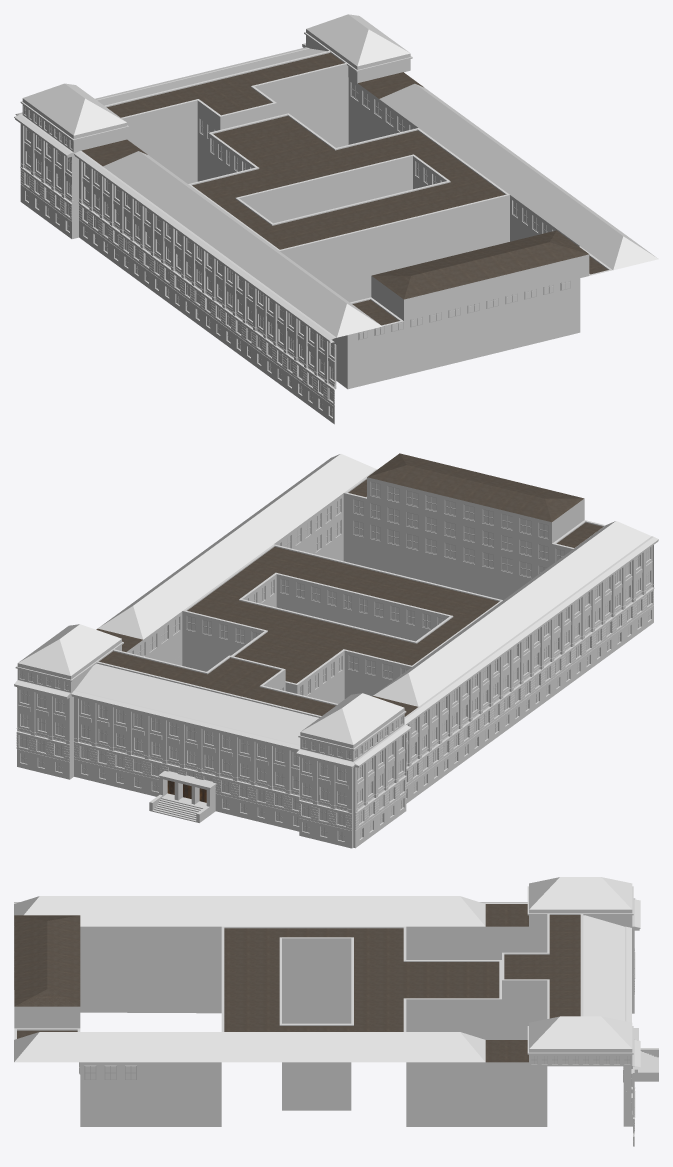
Rendered from VSCHT.fbx.
3 renders of one model, top to bottom at view 1: azimuth 30°, elevation 25°; view 2: azimuth 150°, elevation 25°; view 3: azimuth 270°, elevation 25°, orthographic.
Parts seen in each view (by area): view 1: VSCHT_Zadni_Detaily, VSCHT_Stena.004, VSCHT_Stena.003, VSCHT_Stena, VSCHT_Roof_Cube, VSCHT_Roof_Cube.001, VSCHT_Stena.002; view 2: VSCHT_Zadni_Detaily, VSCHT_Stena.003, VSCHT_Stena.004, VSCHT_Stena.002, VSCHT_Stena.001, VSCHT_Roof_Cube, VSCHT_Stena, VSCHT_Roof_Cube.001, VSCHT_Vstup; view 3: VSCHT_Zadni_Detaily, VSCHT_Stena.004, VSCHT_Roof_Cube.001, VSCHT_Roof_Cube, VSCHT_Stena.001, VSCHT_Vstup, VSCHT_Stena.002, VSCHT_Bok_Big.
Part boxes in pixels (x1,y1,x2,y2): VSCHT_Zadni_Detaily: (97, 48, 612, 389); VSCHT_Stena.004: (81, 72, 658, 337); VSCHT_Stena.003: (74, 151, 336, 424); VSCHT_Stena: (15, 115, 73, 238); VSCHT_Roof_Cube: (20, 83, 129, 152); VSCHT_Roof_Cube.001: (304, 14, 412, 83); VSCHT_Stena.002: (95, 47, 309, 100); VSCHT_Zadni_Detaily: (75, 453, 605, 744); VSCHT_Stena.003: (404, 536, 658, 803); VSCHT_Stena.004: (96, 454, 651, 716); VSCHT_Stena.002: (71, 690, 300, 831); VSCHT_Stena.001: (14, 680, 352, 848); VSCHT_Roof_Cube: (298, 693, 406, 761); VSCHT_Stena: (354, 724, 411, 847); VSCHT_Roof_Cube.001: (15, 624, 123, 692); VSCHT_Vstup: (149, 771, 216, 822); VSCHT_Zadni_Detaily: (14, 914, 624, 1126); VSCHT_Stena.004: (14, 896, 528, 1062); VSCHT_Roof_Cube.001: (527, 1016, 633, 1066); VSCHT_Roof_Cube: (527, 877, 633, 926); VSCHT_Stena.001: (631, 900, 640, 1146); VSCHT_Vstup: (633, 1028, 658, 1081); VSCHT_Stena.002: (623, 926, 631, 1091); VSCHT_Bok_Big: (623, 1066, 632, 1126).
Bounding box in the file's own units: 8144 × 2763 × 13078.
